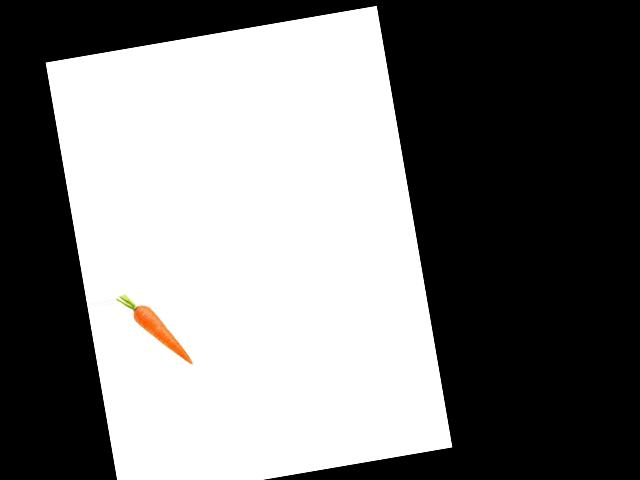carrot: (129, 294, 195, 373)
